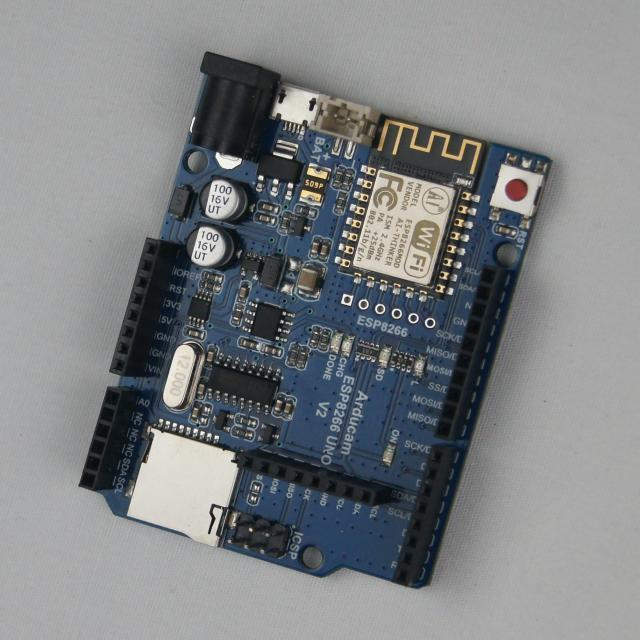Arduino Uno Camera Shield: (81, 54, 550, 586)
